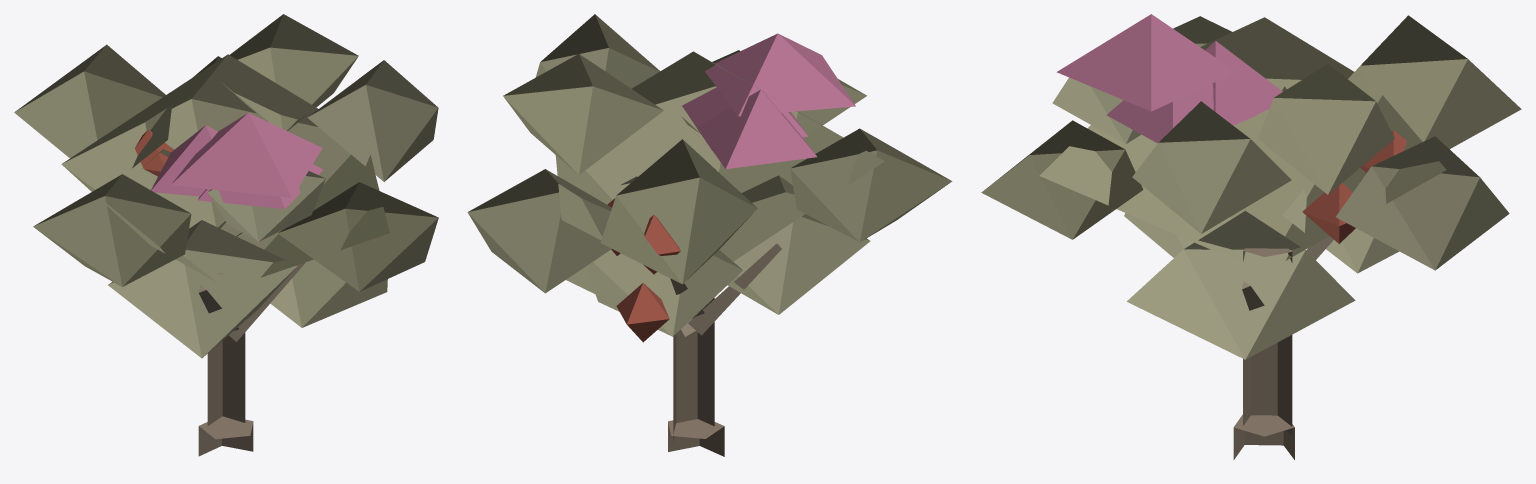
File: tree.sub.tea_oil__winter.glb
3 views of the same model, side by side, from view 1: azimuth 30°, elevation 25°; view 2: azimuth 150°, elevation 25°; view 3: azimuth 270°, elevation 25° (orthographic). The views are drawn at different scales.
Visible parts, largest first — view 1: tree.sub.tea_oil__winter; view 2: tree.sub.tea_oil__winter; view 3: tree.sub.tea_oil__winter.
Part boxes in pixels (x1=…): tree.sub.tea_oil__winter: x1=14, y1=14, x2=438, y2=456; tree.sub.tea_oil__winter: x1=467, y1=14, x2=952, y2=456; tree.sub.tea_oil__winter: x1=981, y1=14, x2=1521, y2=459.
Size of the model in its own units: 7.08 by 7.16 by 7.99.
